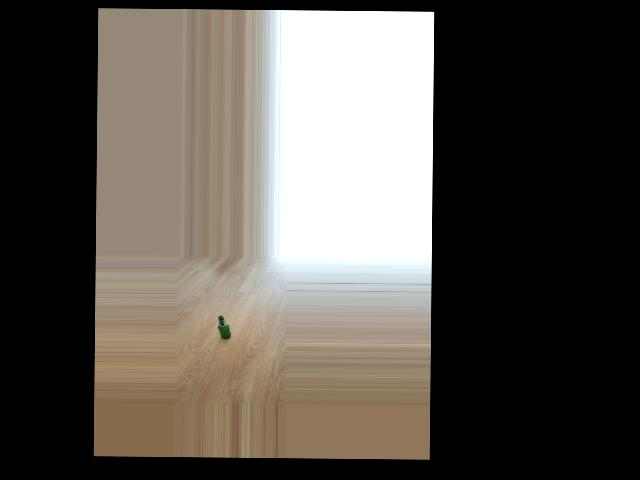beer: (217, 315, 231, 339)
